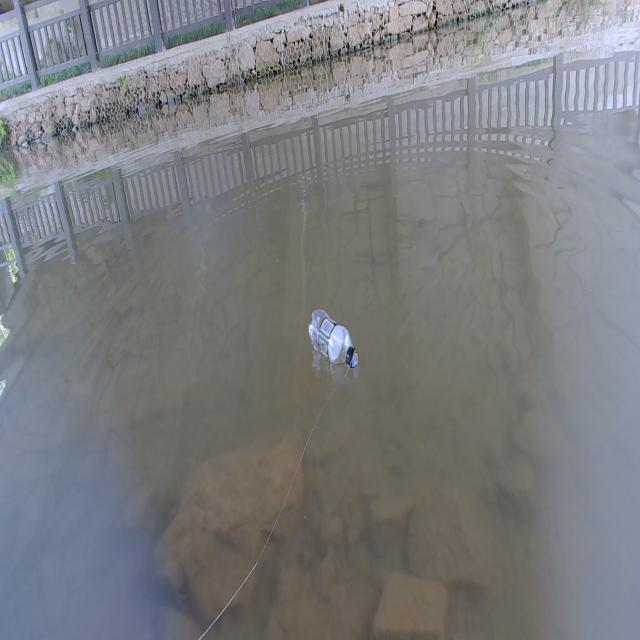Bottle: (308, 305, 360, 369)
